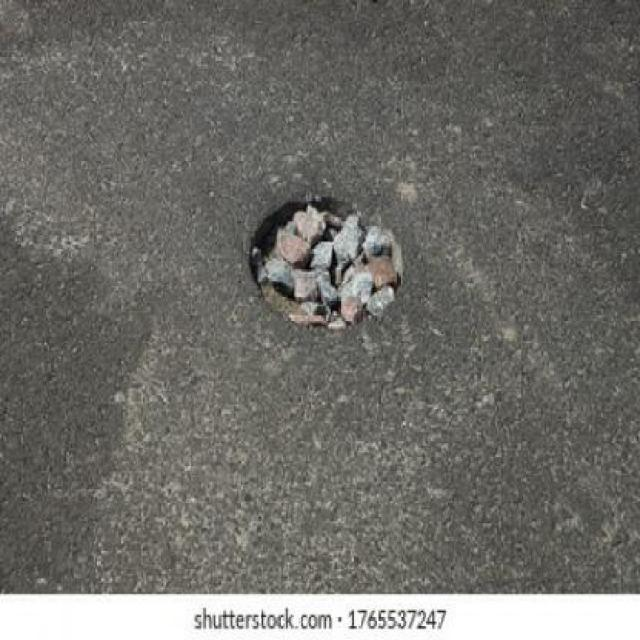Buraco: (240, 192, 411, 334)
